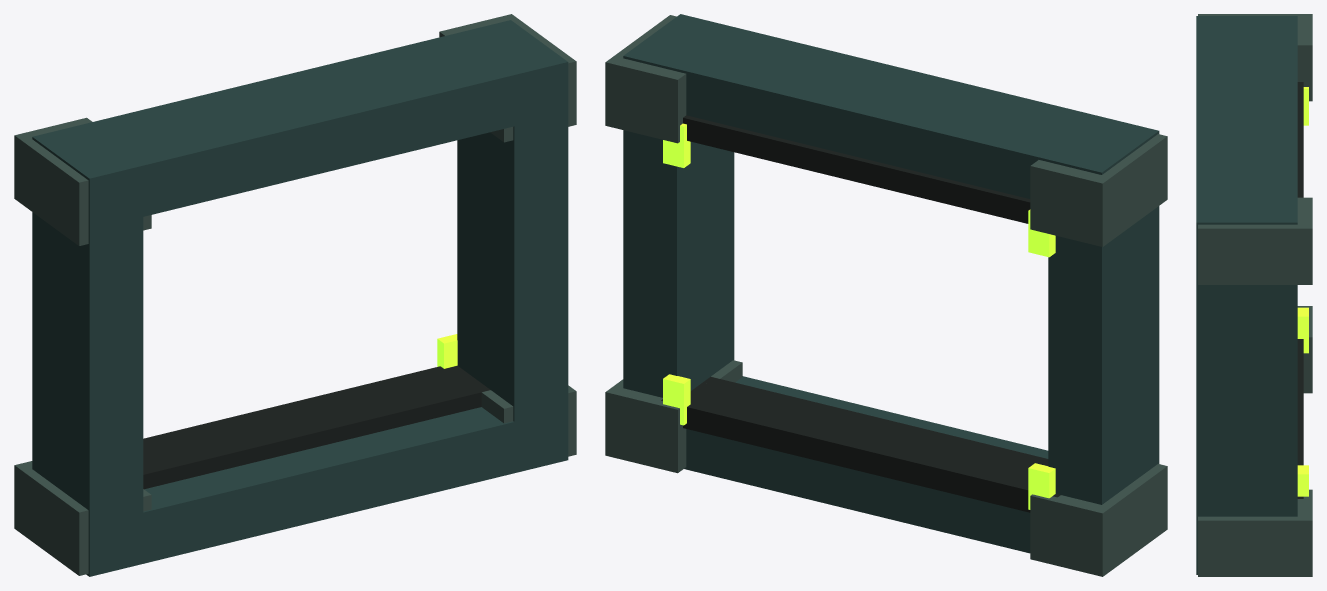
The model's file is waking_hatch_frame.glb.
3 renders of one model, left to right at view 1: azimuth 30°, elevation 25°; view 2: azimuth 150°, elevation 25°; view 3: azimuth 270°, elevation 25°, orthographic. The views are drawn at different scales.
Parts seen in each view (by area): view 1: WakingHatchBody; view 2: WakingHatchBody, WakingHatchSeams; view 3: WakingHatchBody, WakingHatchSeams.
Part boxes in pixels (x1,y1,x2,y2): WakingHatchBody: [14, 14, 576, 576]; WakingHatchBody: [605, 14, 1167, 576]; WakingHatchSeams: [663, 123, 1055, 509]; WakingHatchBody: [1196, 14, 1312, 576]; WakingHatchSeams: [1297, 87, 1308, 496].
Size of the model in its own units: 4.26 by 3.26 by 0.975.
